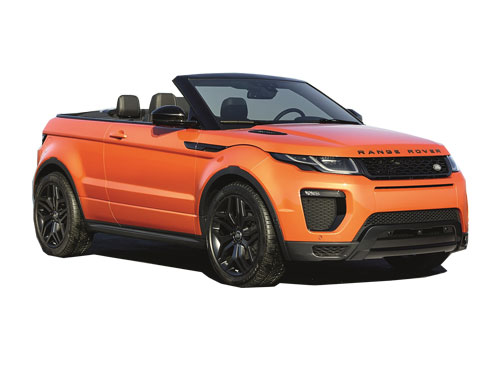pickup: (29, 71, 469, 286)
